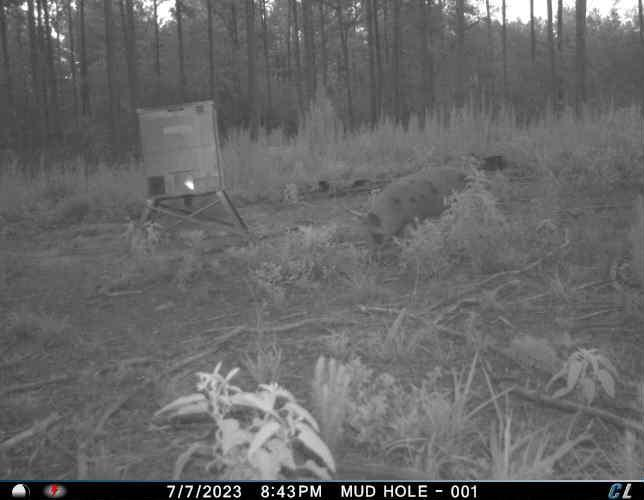Hog: (346, 163, 469, 258)
